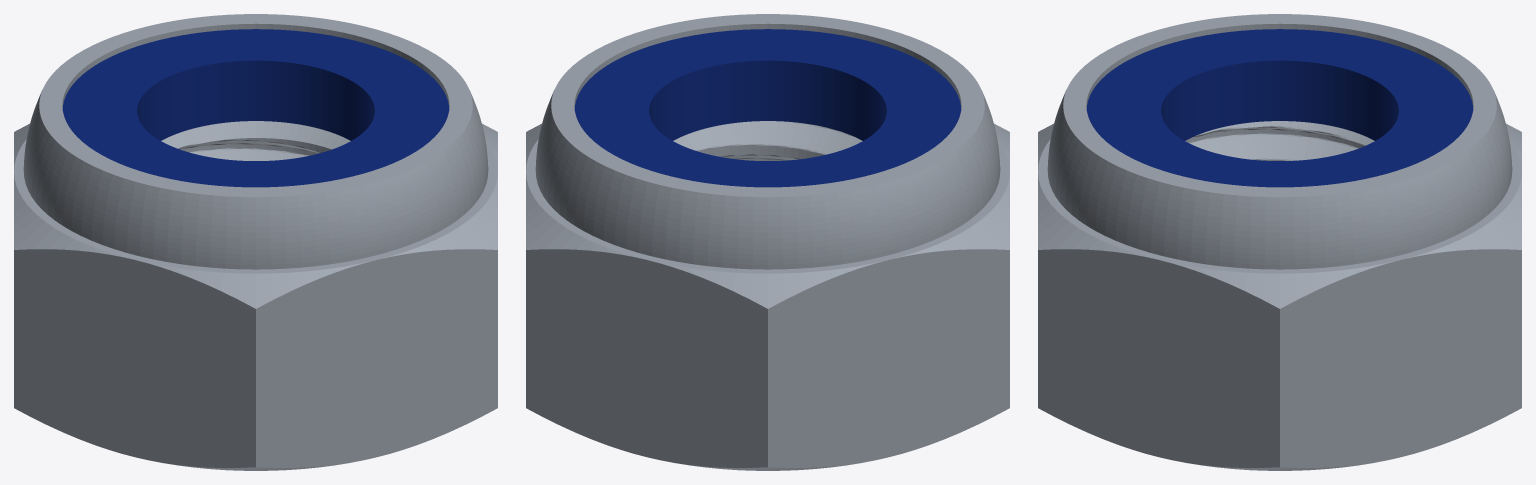
File: model_full.glb
3 views of the same model, side by side, from view 1: azimuth 30°, elevation 25°; view 2: azimuth 150°, elevation 25°; view 3: azimuth 270°, elevation 25° (orthographic).
Visible parts, largest first — view 1: steel, nylon_insert; view 2: steel, nylon_insert; view 3: steel, nylon_insert.
Boxes of the visible parts, <box> form: steel: <box>14,14,497,470</box>; nylon_insert: <box>62,29,449,187</box>; steel: <box>526,14,1009,470</box>; nylon_insert: <box>574,29,961,187</box>; steel: <box>1038,14,1521,470</box>; nylon_insert: <box>1086,29,1473,187</box>.
Bounding box in the file's own units: 0.0115 × 0.006 × 0.01.
